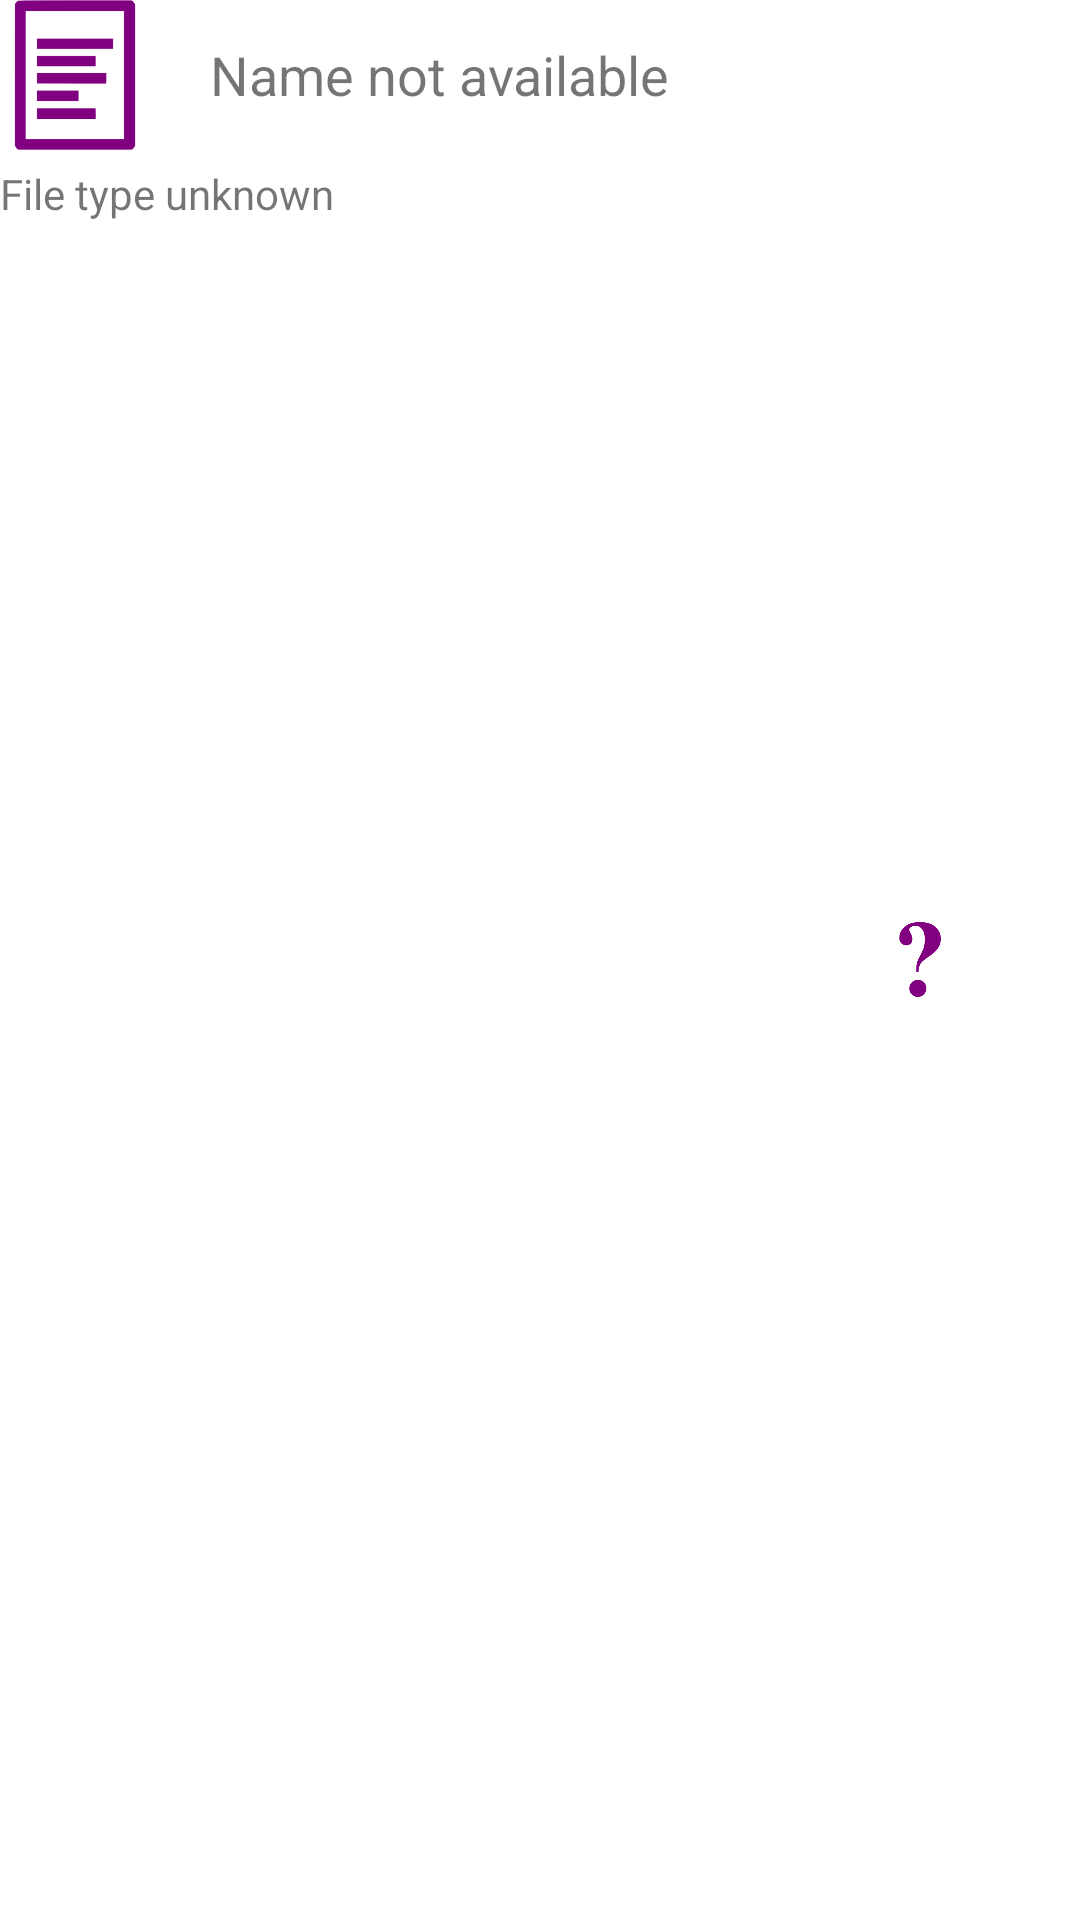

Locate icon controls on the screen. Image size 1080×1920, boxes as bbox=(x1, y1, x2, y2).
question mark: bbox=(899, 922, 941, 997)
